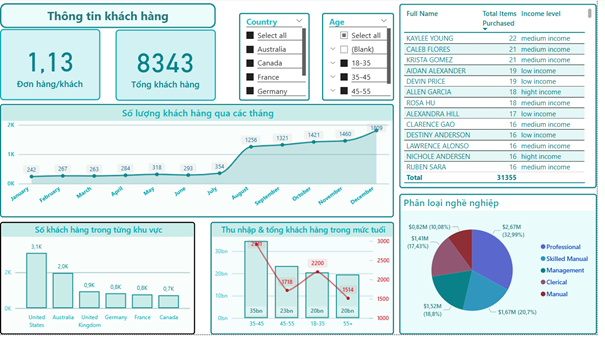

The page's visual inventory and layout, read from the dashboard file:
{"tool":"powerbi","page":{"name":"Page 2","canvas":[1280,720],"ordinal":1},"visuals":[{"type":"lineClusteredColumnComboChart","title":"Thu nhập & tổng khách hàng trong mức tuổi","fields":{"Category":["customers.Age breakdown"],"Y":["Sum(customers.annual_income)"],"Y2":["customers.Total Customer"]},"box":[451.5,478.5,393.9,241.7],"z":0},{"type":"card","fields":{"Values":["customers.Total Customer"]},"box":[247.6,65.9,215.2,153],"z":1000},{"type":"tableEx","fields":{"Values":["customers.Full Name","customers.Total Items Purchased","customers.Income level"]},"box":[856.4,11,423.3,395.1],"z":2000},{"type":"slicer","fields":{"Values":["territories.country"]},"box":[512.9,30.7,150.9,187.7],"z":3000},{"type":"slicer","fields":{"Values":["customers.Age breakdown","customers.Age"]},"box":[690.8,30.7,154.6,187.7],"z":4000},{"type":"card","fields":{"Values":["customers.Orders per Customer"]},"box":[0,64.7,215.2,153],"z":5000},{"type":"lineChart","title":"Số lượng khách hàng qua các tháng","fields":{"Y":["customers.Total Customer"],"Category":["Calendarr.Date.Variation.Date Hierarchy.Month","Calendarr.Date.Variation.Date Hierarchy.Day"]},"box":[0,226.2,844.8,243.2],"z":6000},{"type":"columnChart","title":"Số khách hàng trong từng khu vực","fields":{"Category":["territories.country"],"Y":["customers.Total Customer"]},"box":[0,478.5,418.1,241.5],"z":7000},{"type":"pieChart","title":"Phân loại nghề nghiệp","fields":{"Category":["customers.occupation"],"Y":["sales.Total Revenue"]},"box":[855.8,418.1,424.2,301.9],"z":8000},{"type":"shape","box":[0,10,462.8,53.5],"z":9000}]}

Visuals, with their boxes in screenshot pixels (x1, y1, x2, y2), scaled from the page's 1280x720 canvas onto the 605x337 screenshot:
"Thu nhập & tổng khách hàng trong mức tuổi" lineClusteredColumnComboChart: <region>213, 224, 400, 336</region>
card - customers.Total Customer: <region>117, 31, 219, 102</region>
tableEx - customers.Full Name x customers.Total Items Purchased: <region>405, 5, 604, 190</region>
slicer - territories.country: <region>242, 14, 314, 102</region>
slicer - customers.Age breakdown x customers.Age: <region>327, 14, 400, 102</region>
card - customers.Orders per Customer: <region>0, 30, 102, 102</region>
"Số lượng khách hàng qua các tháng" lineChart: <region>0, 106, 399, 220</region>
"Số khách hàng trong từng khu vực" columnChart: <region>0, 224, 198, 336</region>
"Phân loại nghề nghiệp" pieChart: <region>404, 196, 604, 336</region>
shape: <region>0, 5, 219, 30</region>
